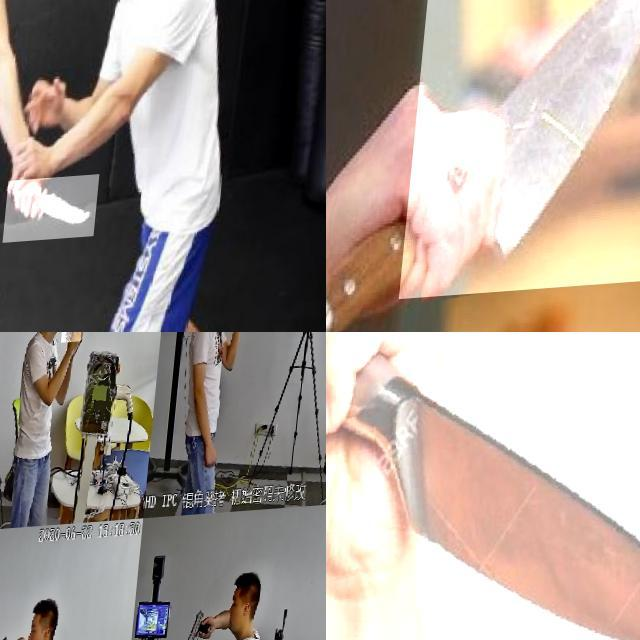-: (326, 332, 640, 640), (407, 0, 640, 301), (12, 180, 108, 247)
gun-knife-thesis - v11 Yolov5 augmented: (189, 610, 220, 640), (228, 332, 255, 359), (63, 332, 87, 357)
